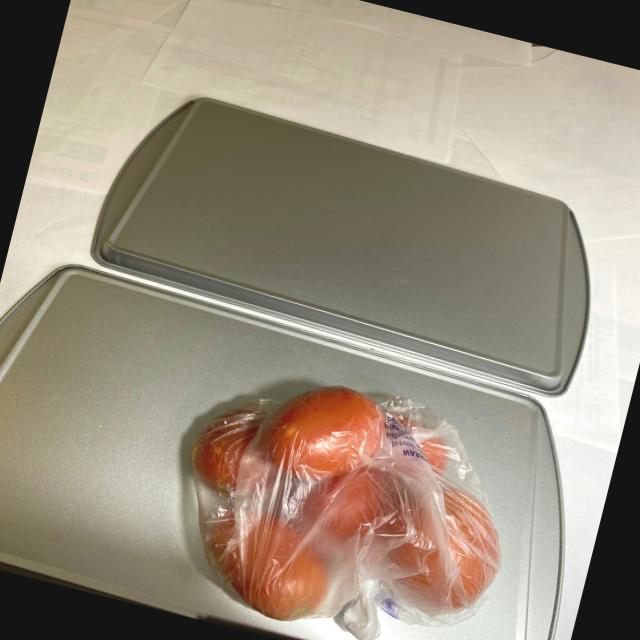tomato: (159, 346, 530, 640)
